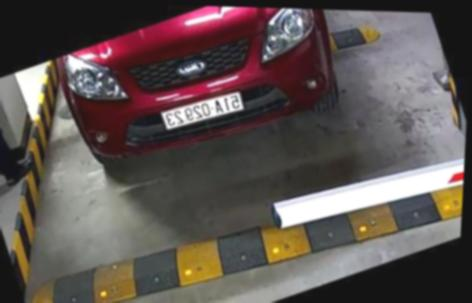License_Plate: (160, 86, 244, 136)
